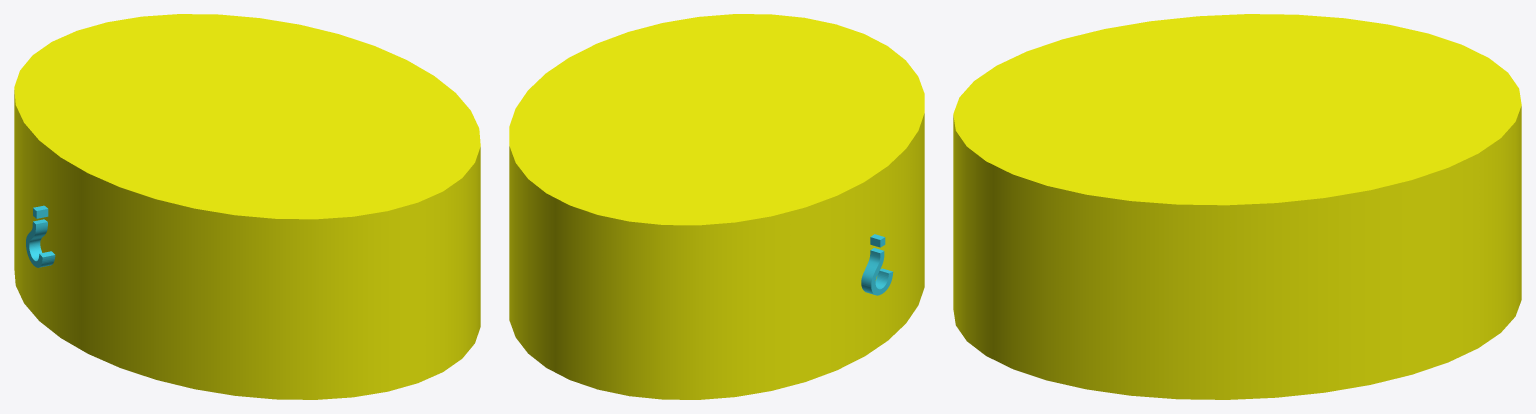
The model's file is yellow.FBX.
3 renders of one model, left to right at view 1: azimuth 30°, elevation 25°; view 2: azimuth 150°, elevation 25°; view 3: azimuth 270°, elevation 25°, orthographic. The views are drawn at different scales.
Parts seen in each view (by area): view 1: Cylinder003; view 2: Cylinder003; view 3: Cylinder003.
Part boxes in pixels (x1,y1,x2,y2): Cylinder003: (14, 14, 480, 399); Cylinder003: (509, 14, 924, 399); Cylinder003: (953, 14, 1521, 399).
Size of the model in its own units: 32.67 by 15.02 by 39.74.
